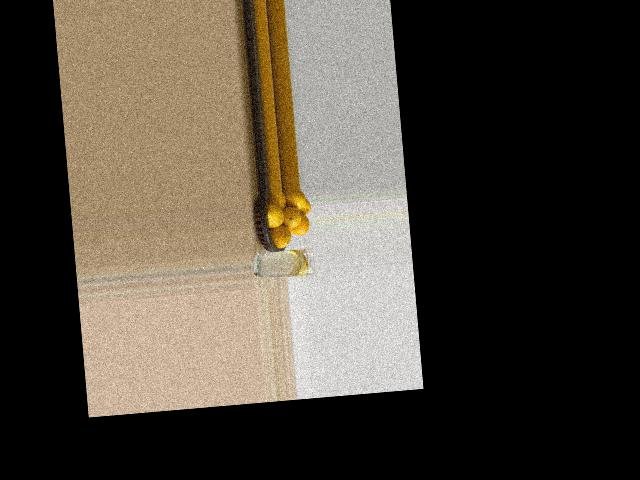lemon: (282, 189, 309, 212)
